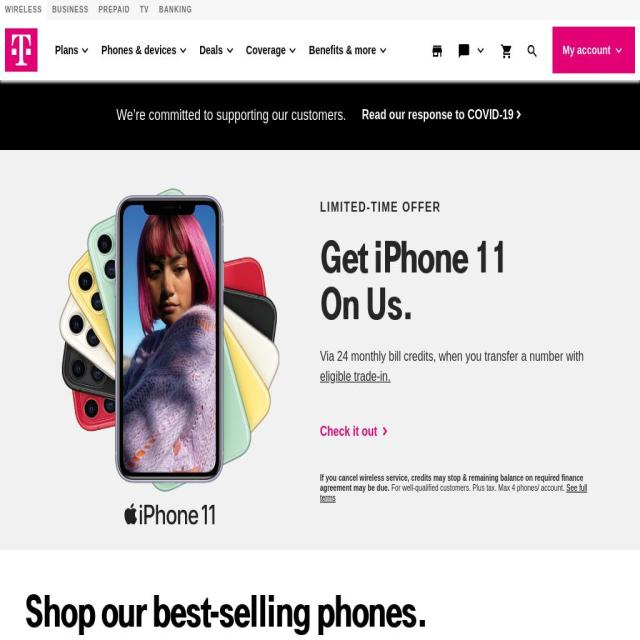button: (362, 95, 524, 135), (552, 27, 636, 73), (320, 411, 391, 452), (101, 40, 190, 60), (309, 40, 389, 60), (5, 27, 37, 73), (246, 40, 300, 60), (55, 40, 92, 60), (200, 40, 237, 60)
heading: (25, 588, 615, 640), (373, 230, 508, 284), (320, 277, 412, 331), (116, 105, 347, 125), (320, 230, 374, 284)
image: (38, 174, 302, 526), (5, 28, 37, 72)
link: (320, 482, 588, 502), (320, 368, 391, 384), (431, 40, 448, 60), (500, 40, 517, 60), (526, 40, 542, 60)
text: (320, 196, 602, 218), (320, 472, 583, 492), (320, 348, 584, 364), (391, 482, 566, 492), (101, 40, 177, 60), (309, 40, 376, 60), (562, 41, 610, 59), (246, 40, 286, 60), (55, 40, 79, 60), (199, 40, 223, 60), (458, 40, 473, 60)
